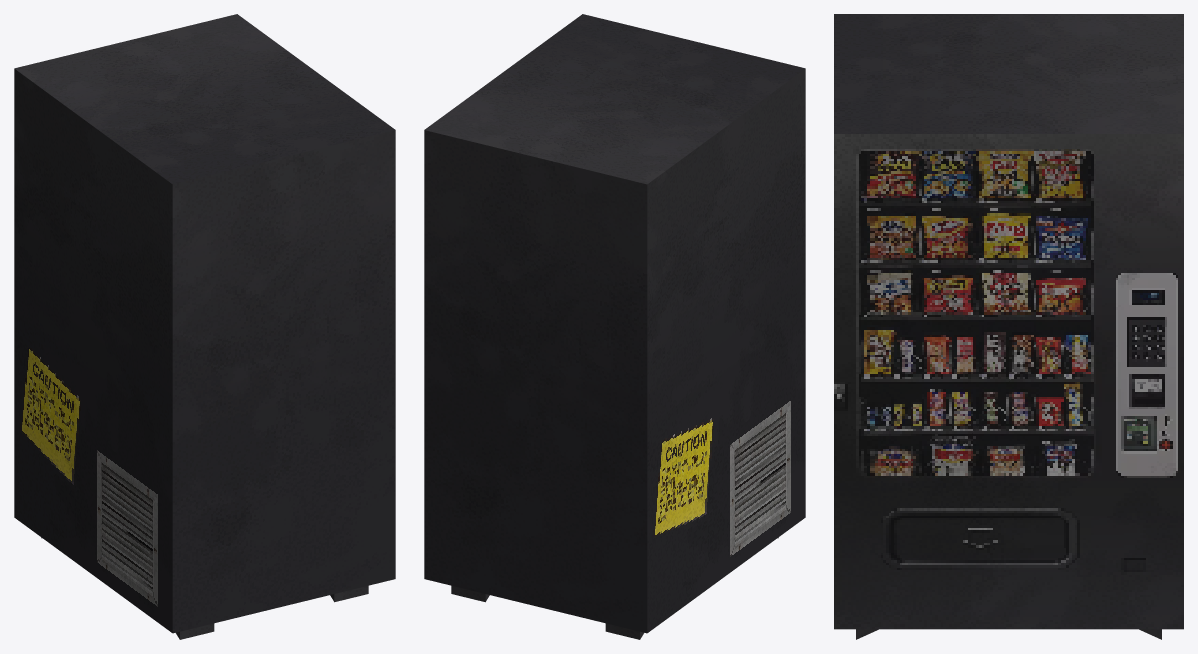
The model's file is vending_machine.gltf.
3 views of the same model, side by side, from view 1: azimuth 30°, elevation 25°; view 2: azimuth 150°, elevation 25°; view 3: azimuth 270°, elevation 25° (orthographic). The views are drawn at different scales.
Parts seen in each view (by area): view 1: vending machine; view 2: vending machine; view 3: vending machine.
Boxes of the visible parts, x1,y1,x2,y2 form: vending machine: (14,14,395,633); vending machine: (424,14,805,633); vending machine: (834,14,1183,629).
Bounding box in the file's own units: 0.8125 × 1.62 × 1.
1 material, 1 textured.
